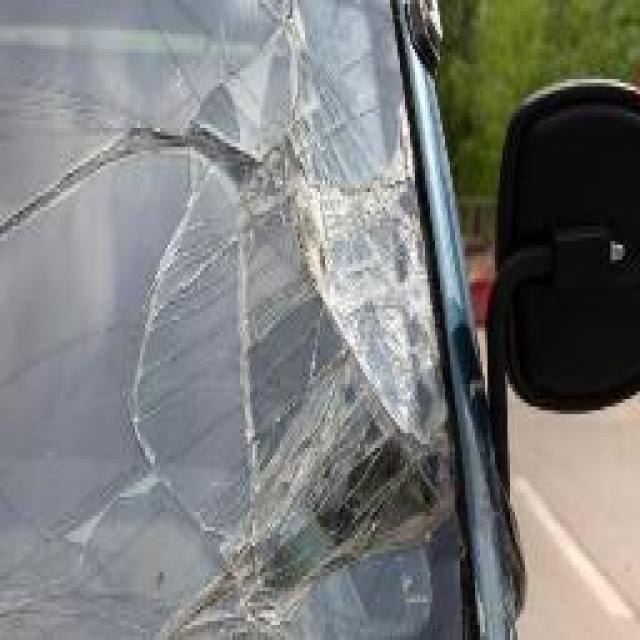Windshield: (2, 0, 438, 640)
